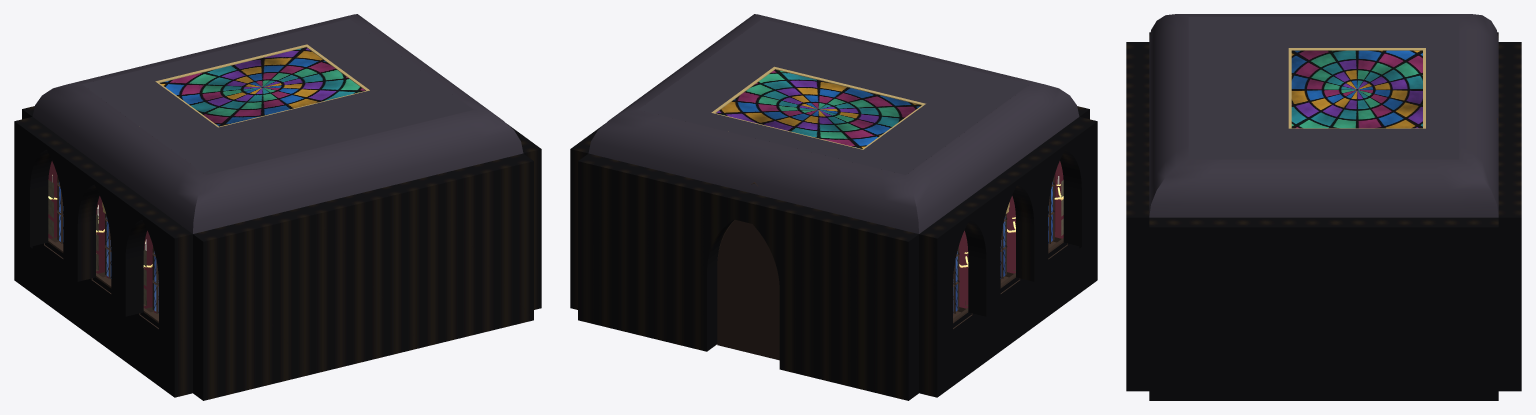
File: artroom-web.glb
3 renders of one model, left to right at view 1: azimuth 30°, elevation 25°; view 2: azimuth 150°, elevation 25°; view 3: azimuth 270°, elevation 25°, orthographic. The views are drawn at different scales.
Visible parts, largest first — view 1: ART_Walls, ART_Cove, ART_Ceiling, ART_Skylight, ART_Drapes, ART_WindowTrim, ART_SkylightFrame, ART_PinnedSketches, ART_WindowGlass; view 2: ART_Walls, ART_Cove, ART_Ceiling, ART_Skylight, ART_DoorLeaves, ART_Drapes, ART_WindowTrim, ART_SkylightFrame, ART_WindowGlass; view 3: ART_Walls, ART_Cove, ART_Ceiling, ART_Skylight, ART_SkylightFrame.
Boxes of the visible parts, x1,y1,x2,y2 form: ART_Walls: [14, 106, 541, 400]; ART_Cove: [32, 14, 523, 233]; ART_Ceiling: [82, 19, 473, 174]; ART_Skylight: [160, 47, 365, 126]; ART_Drapes: [48, 161, 156, 312]; ART_WindowTrim: [44, 176, 158, 328]; ART_SkylightFrame: [155, 44, 369, 127]; ART_PinnedSketches: [48, 180, 146, 305]; ART_WindowGlass: [59, 181, 158, 313]; ART_Walls: [570, 106, 1097, 400]; ART_Cove: [588, 14, 1079, 233]; ART_Ceiling: [638, 19, 1029, 174]; ART_Skylight: [716, 69, 921, 148]; ART_DoorLeaves: [717, 220, 779, 360]; ART_Drapes: [959, 161, 1063, 308]; ART_WindowTrim: [953, 177, 1067, 328]; ART_SkylightFrame: [711, 66, 925, 149]; ART_WindowGlass: [953, 181, 1052, 313]; ART_Walls: [1126, 32, 1521, 400]; ART_Cove: [1149, 14, 1498, 217]; ART_Ceiling: [1188, 17, 1459, 159]; ART_Skylight: [1291, 50, 1422, 128]; ART_SkylightFrame: [1288, 48, 1425, 128].
Bounding box in the file's own units: 11.1 × 5.71 × 9.5.
36 materials, 12 textured.
